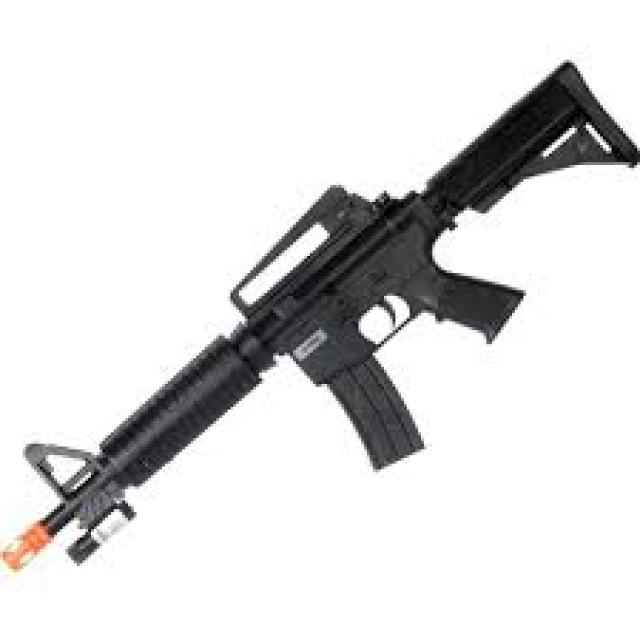rifle: (1, 36, 640, 592)
